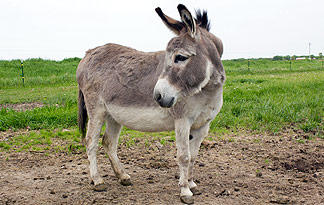donkey: (73, 4, 228, 202)
